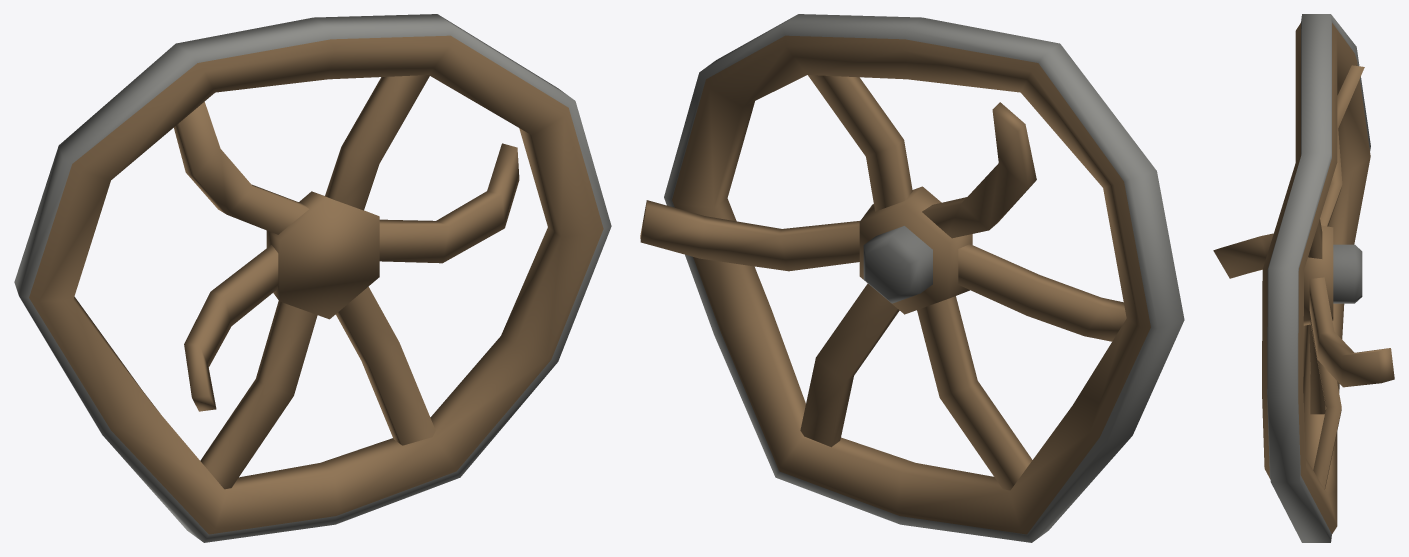
The model's file is rpgpp_av_wheel_01a.gltf.
3 views of the same model, side by side, from view 1: azimuth 30°, elevation 25°; view 2: azimuth 150°, elevation 25°; view 3: azimuth 270°, elevation 25° (orthographic). The views are drawn at different scales.
Visible parts, largest first — view 1: rpgpp_av_wheel_01a; view 2: rpgpp_av_wheel_01a; view 3: rpgpp_av_wheel_01a.
Boxes of the visible parts, x1,y1,x2,y2 form: rpgpp_av_wheel_01a: (14,14,611,542); rpgpp_av_wheel_01a: (640,14,1184,542); rpgpp_av_wheel_01a: (1213,14,1394,542).
Bounding box in the file's own units: 0.0148 × 0.013 × 0.00495.
Materials: 1 (1 with a texture image).
